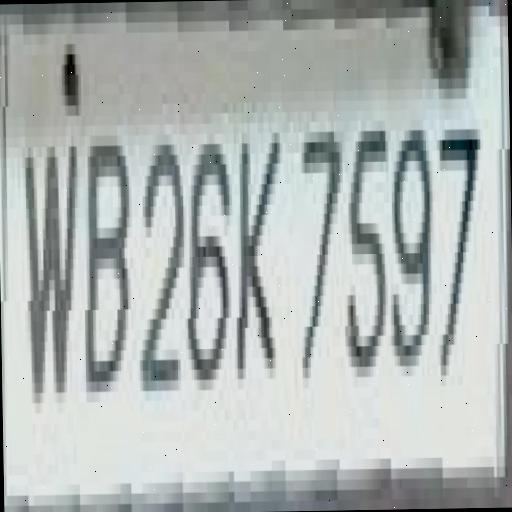number plate: (0, 0, 489, 495)
